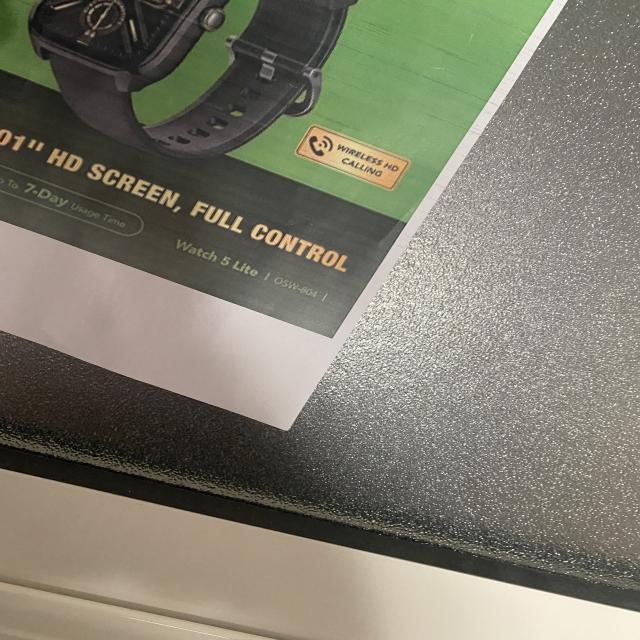Watch 5 Lite OSW-804: (168, 229, 335, 306)
